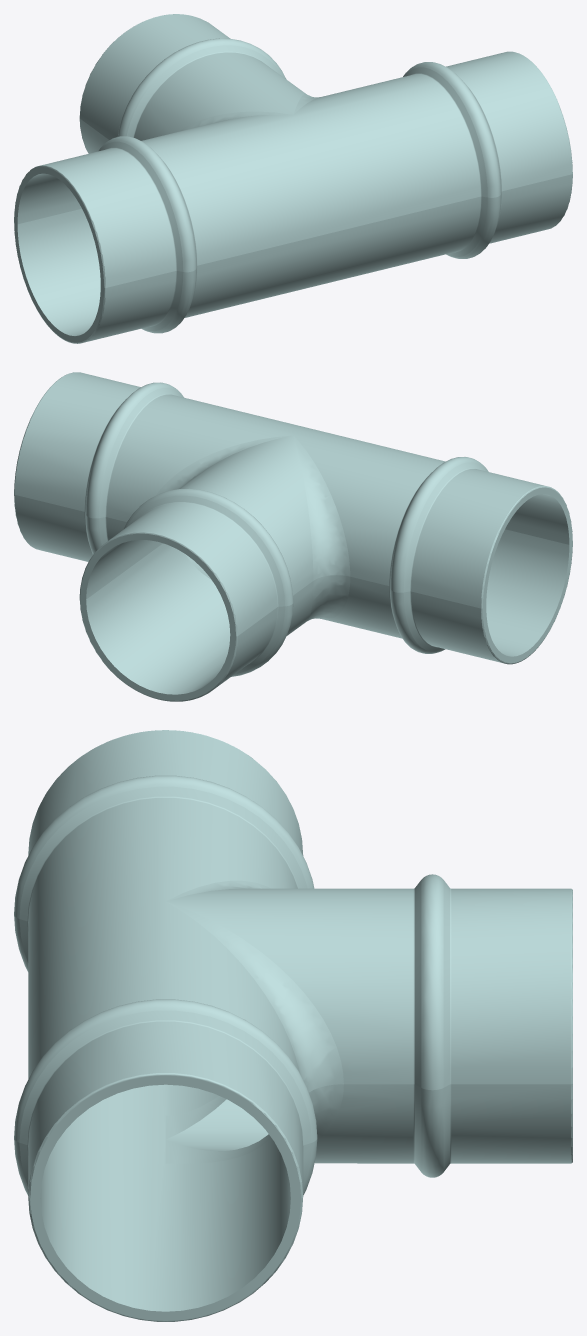
3 renders of one model, top to bottom at view 1: azimuth 30°, elevation 25°; view 2: azimuth 150°, elevation 25°; view 3: azimuth 270°, elevation 25°, orthographic. The views are drawn at different scales.
Bounding box in the file's own units: 200 × 74.35 × 137.
